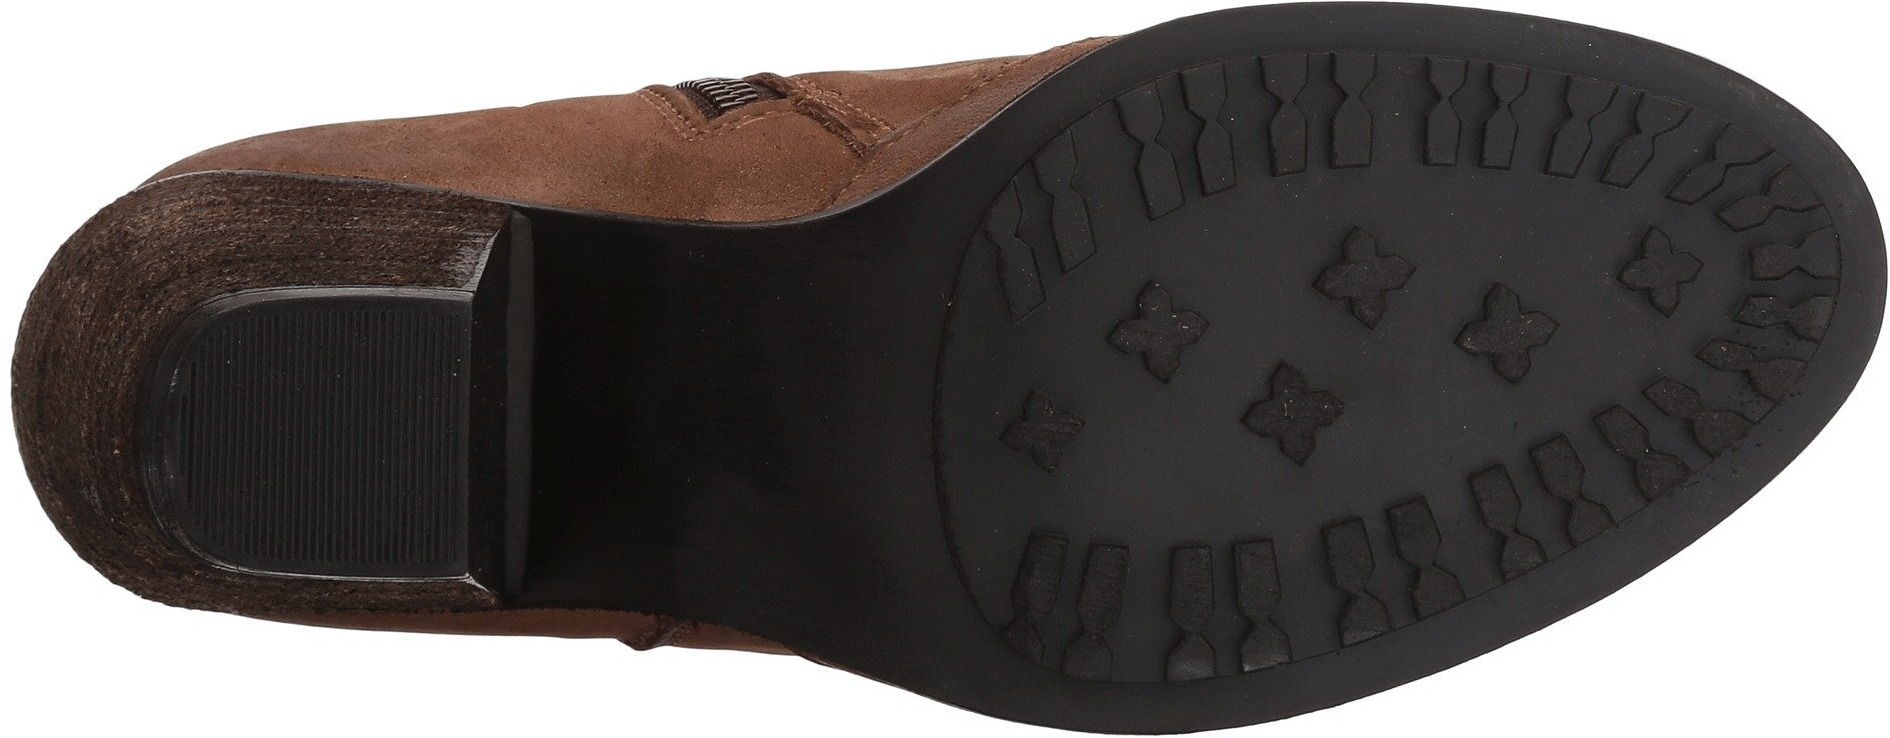bowtie: (1029, 505, 1207, 692), (1431, 57, 1573, 191), (1319, 505, 1448, 629), (1176, 59, 1295, 184), (1532, 424, 1649, 535)
other: (245, 321, 457, 551)
star: (1322, 211, 1532, 402), (1082, 283, 1220, 402), (1604, 219, 1715, 332)
